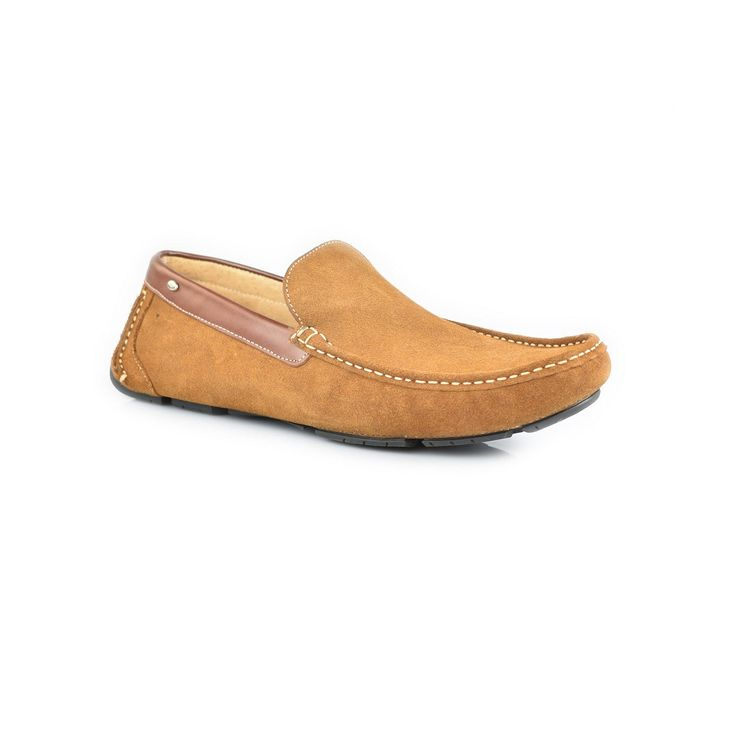gamuza: (109, 239, 611, 440)
